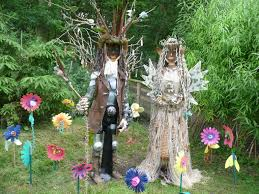person-like: (143, 35, 203, 186), (78, 35, 131, 183)
